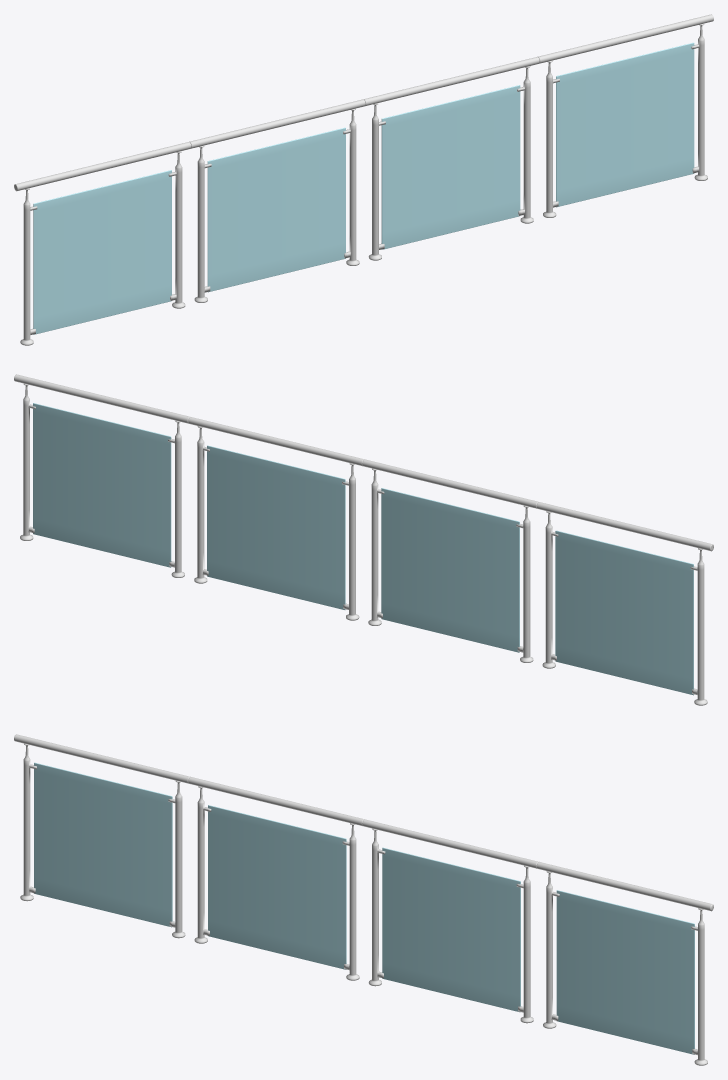
Rendered from barrieres_verres_groupe.fbx.
3 views of the same model, one above another, from view 1: azimuth 30°, elevation 25°; view 2: azimuth 150°, elevation 25°; view 3: azimuth 330°, elevation 25° (orthographic).
Visible parts, largest first — view 1: barriere_verre; view 2: barriere_verre; view 3: barriere_verre.
Boxes of the visible parts, <box> form: barriere_verre: <box>14,14,713,345</box>; barriere_verre: <box>14,374,713,705</box>; barriere_verre: <box>14,734,713,1065</box>.
Bounding box in the file's own units: 735 × 162 × 12.11.
